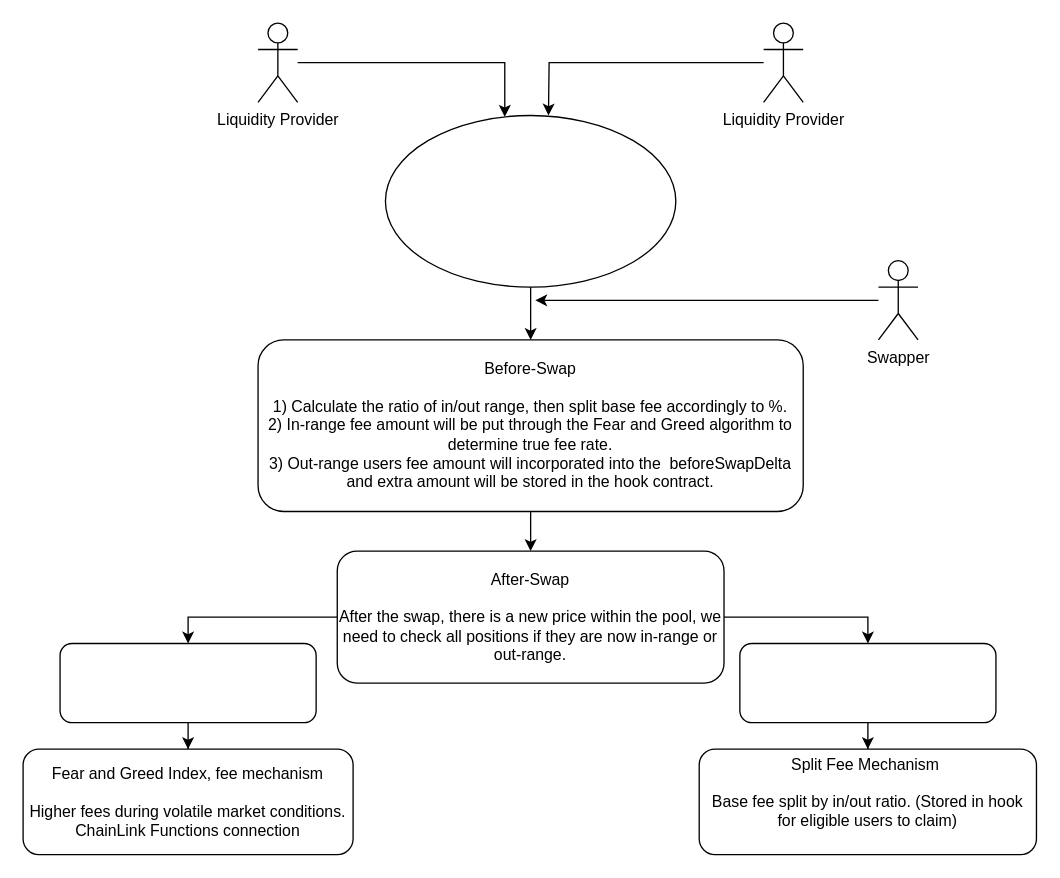
Some shapes in this 1060 by 878 pixel diagram are drawn without their labels. Each missing label, with the centre of its shape:
In-Range Positions: (187,682)
Liquidity Pool + Hybryda Hook: (530,200)
Out-Range Positions: (867,682)
